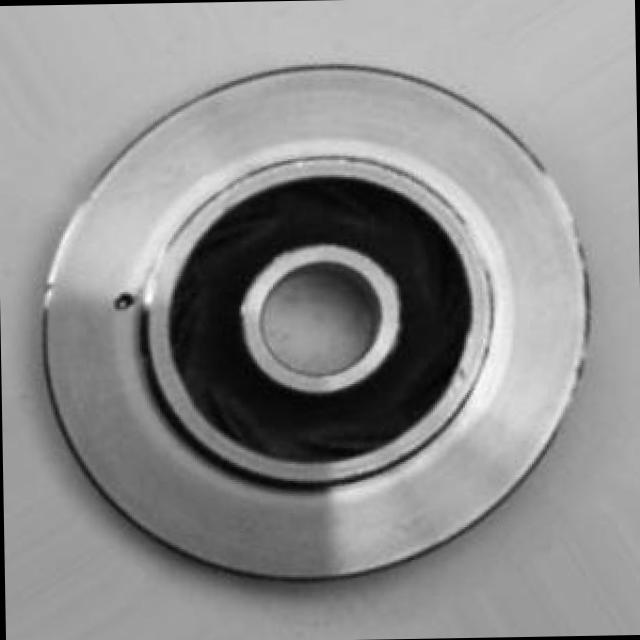Defect: (106, 284, 140, 319)
